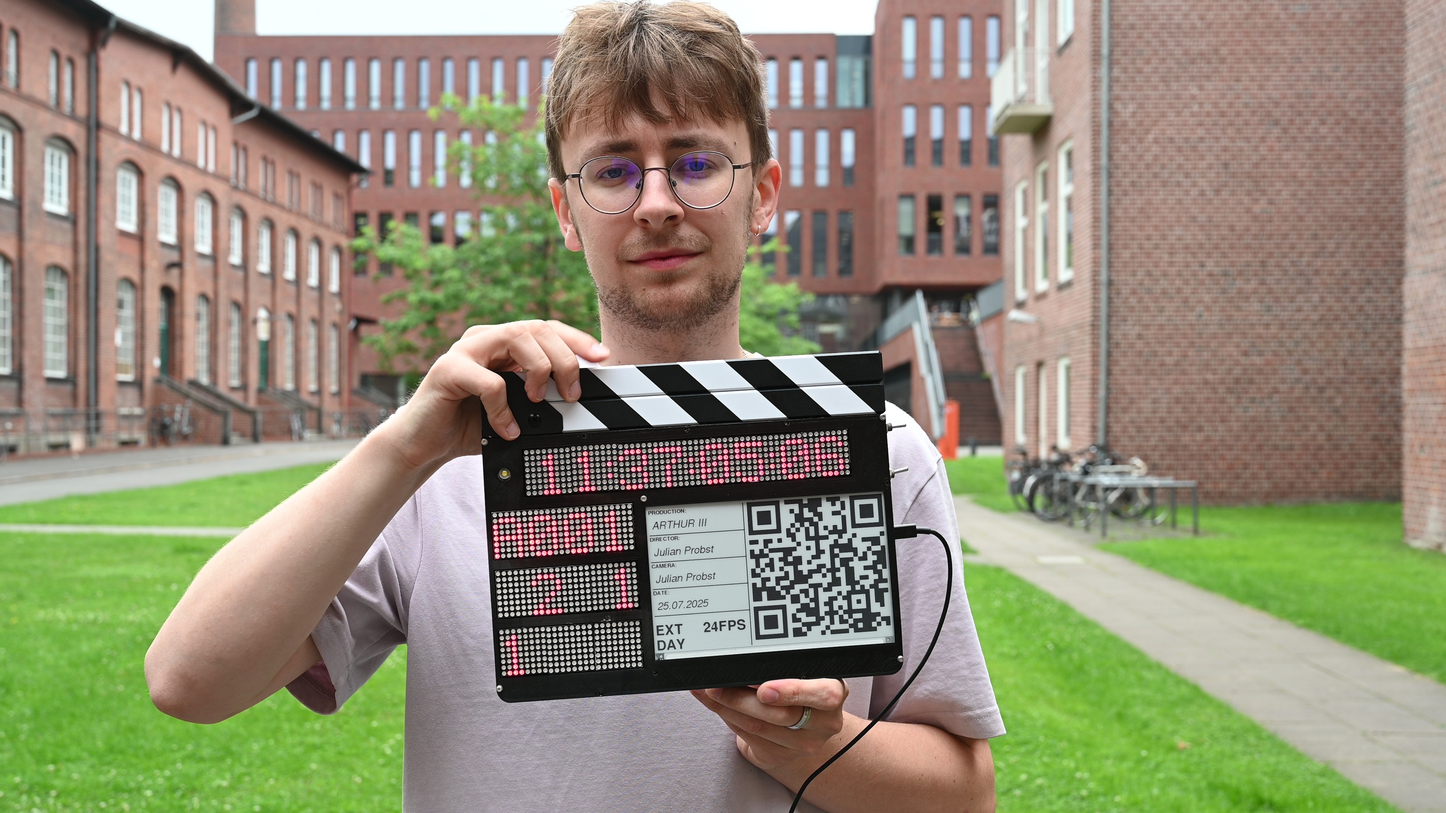ARC-SLATE: (479, 377, 904, 707)
